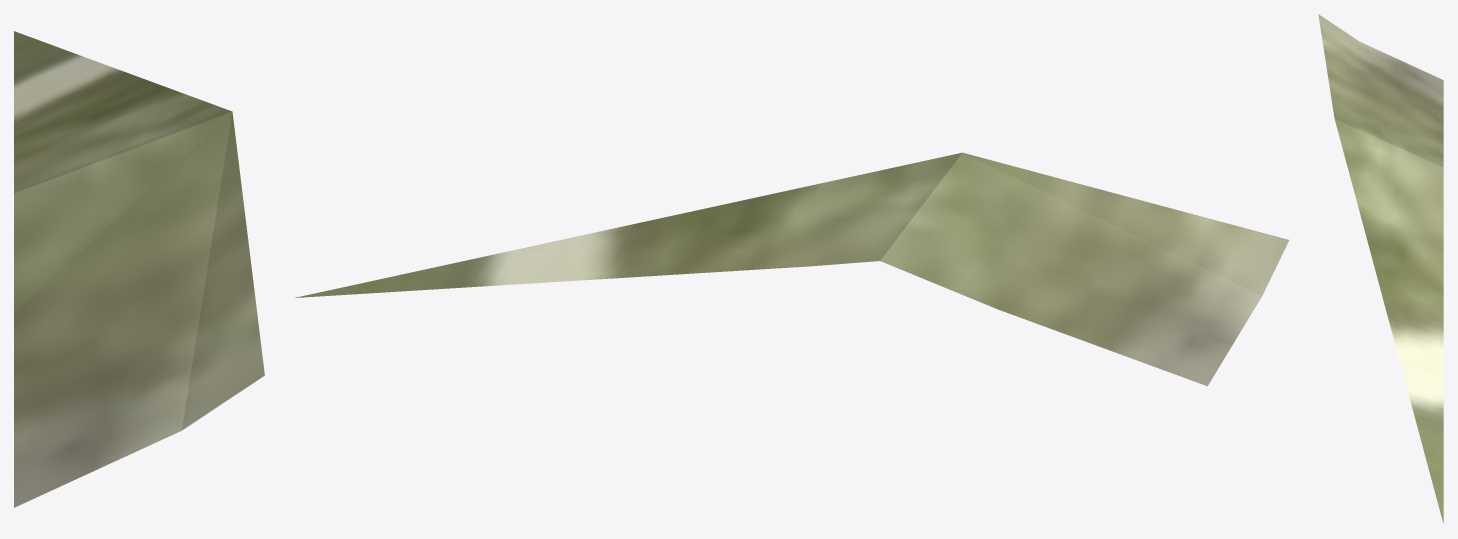
3 renders of one model, left to right at view 1: azimuth 90°, elevation 25°; view 2: azimuth 150°, elevation 25°; view 3: azimuth 270°, elevation 25°, orthographic. The views are drawn at different scales.
Bounding box in the file's own units: 0.8165 × 0.2041 × 0.1267.
Materials: 1 (1 with a texture image).
